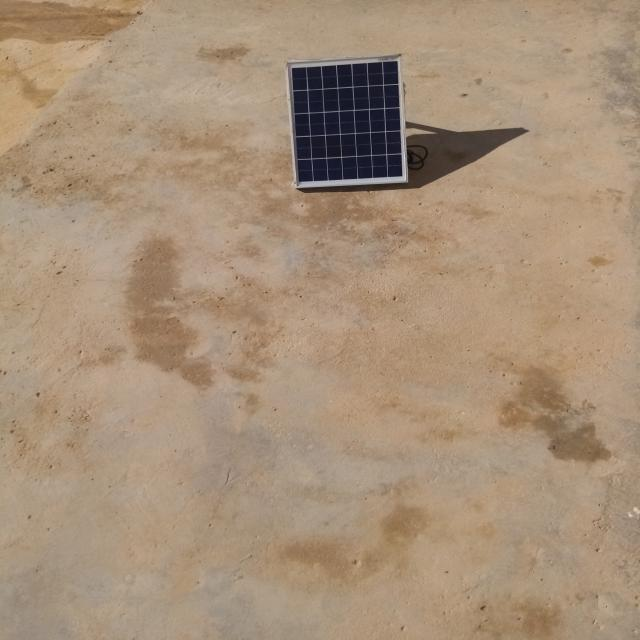Normal Solar Panel: (285, 52, 408, 188)
